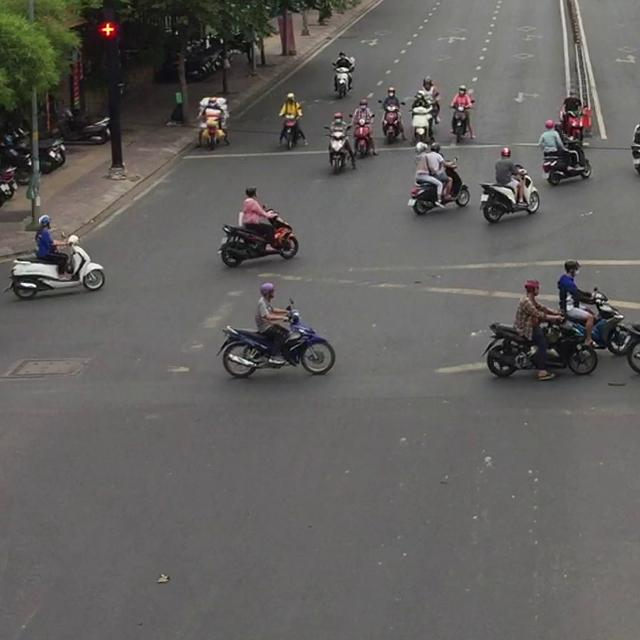Motorcycle: (215, 297, 336, 379), (481, 313, 598, 378), (3, 232, 105, 300), (216, 207, 299, 267), (559, 285, 630, 354), (407, 156, 470, 215), (478, 164, 540, 223), (541, 139, 592, 186), (323, 124, 356, 174), (196, 107, 230, 150), (348, 112, 378, 158), (556, 109, 593, 145), (377, 98, 406, 143), (449, 100, 475, 143), (409, 104, 436, 145), (278, 113, 307, 150), (412, 90, 440, 124), (331, 62, 353, 98)
